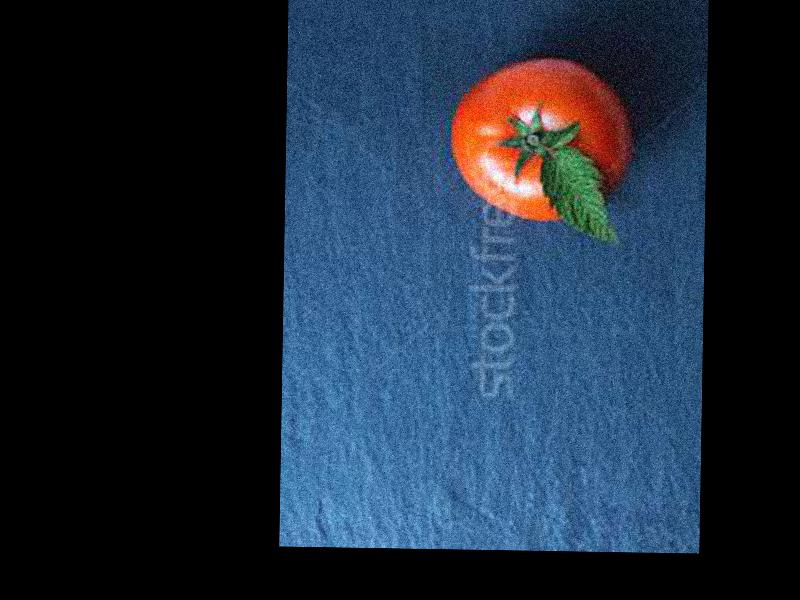Tomato: (450, 58, 629, 224)
